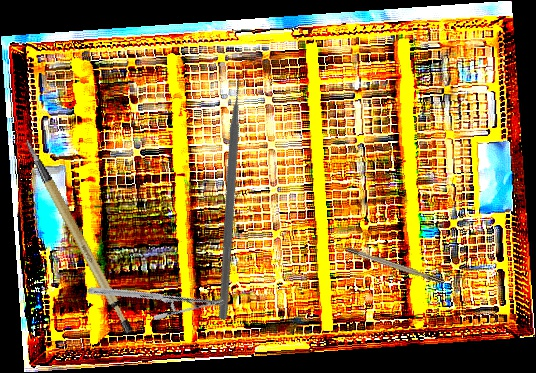Chopper: (120, 61, 357, 322)
Hook Surgical: (326, 239, 446, 286)
Needle Holder: (86, 240, 226, 353)
Scalpel Handle: (23, 125, 137, 345)
